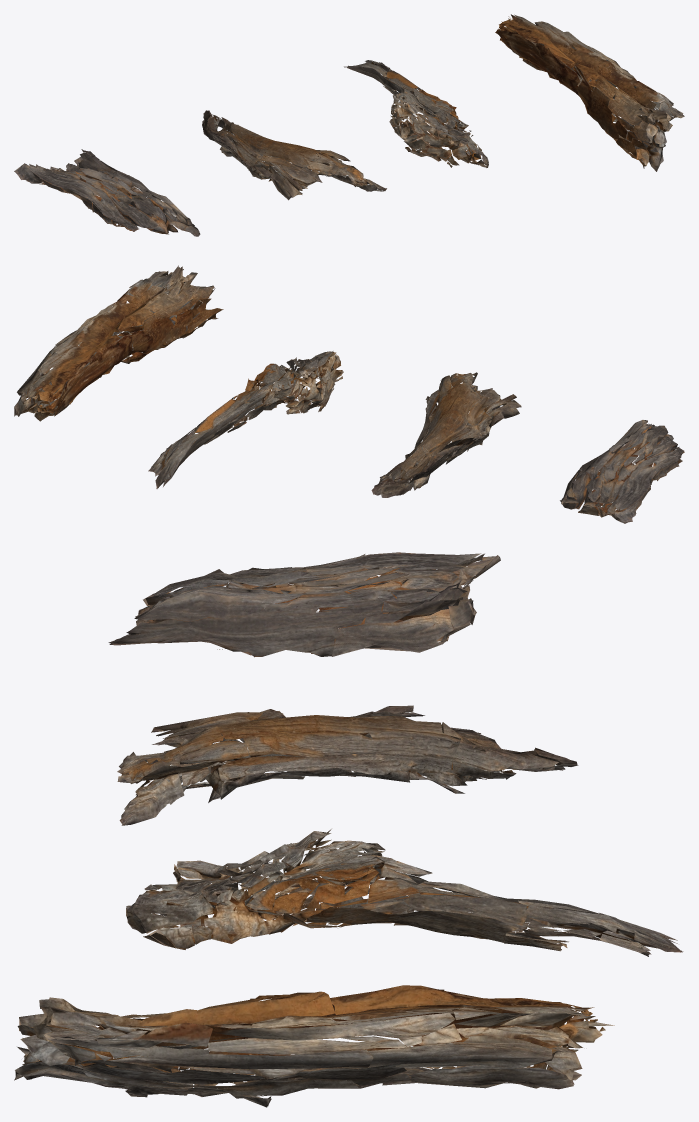
The model's file is bark_debris_01.glb.
The picture shows the model from 3 angles, top to bottom: view 1: azimuth 30°, elevation 25°; view 2: azimuth 150°, elevation 25°; view 3: azimuth 270°, elevation 25°; orthographic projection. The views are drawn at different scales.
Visible parts, largest first — view 1: bark_debris_01_d, bark_debris_01_a, bark_debris_01_b, bark_debris_01_c; view 2: bark_debris_01_d, bark_debris_01_b, bark_debris_01_c, bark_debris_01_a; view 3: bark_debris_01_d, bark_debris_01_c, bark_debris_01_a, bark_debris_01_b.
Part boxes in pixels (<box>): bark_debris_01_d: <box>495,14,684,171</box>; bark_debris_01_a: <box>14,149,200,236</box>; bark_debris_01_b: <box>202,110,386,200</box>; bark_debris_01_c: <box>344,60,488,167</box>; bark_debris_01_d: <box>14,265,223,421</box>; bark_debris_01_b: <box>371,372,521,497</box>; bark_debris_01_c: <box>148,351,343,488</box>; bark_debris_01_a: <box>560,420,684,523</box>; bark_debris_01_d: <box>14,985,614,1107</box>; bark_debris_01_c: <box>126,829,683,956</box>; bark_debris_01_a: <box>108,552,500,657</box>; bark_debris_01_b: <box>117,705,578,825</box>.
Size of the model in its own units: 1.21 by 0.1106 by 0.6738.
1 material, 1 textured.
